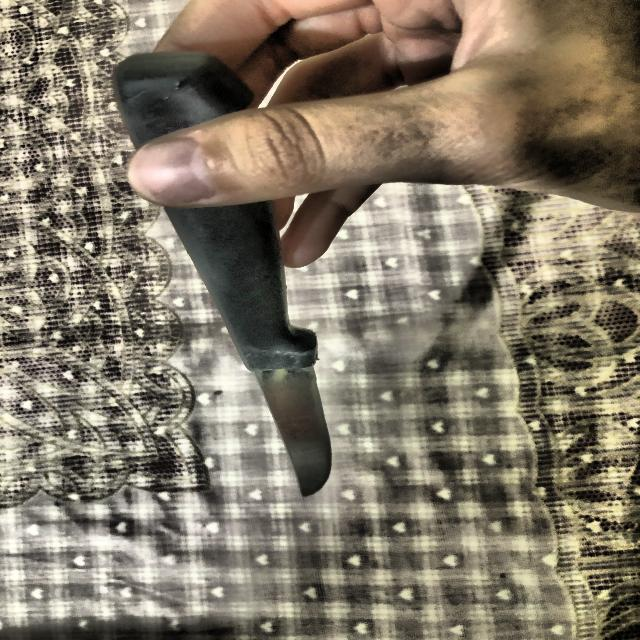knife: (119, 57, 335, 497)
